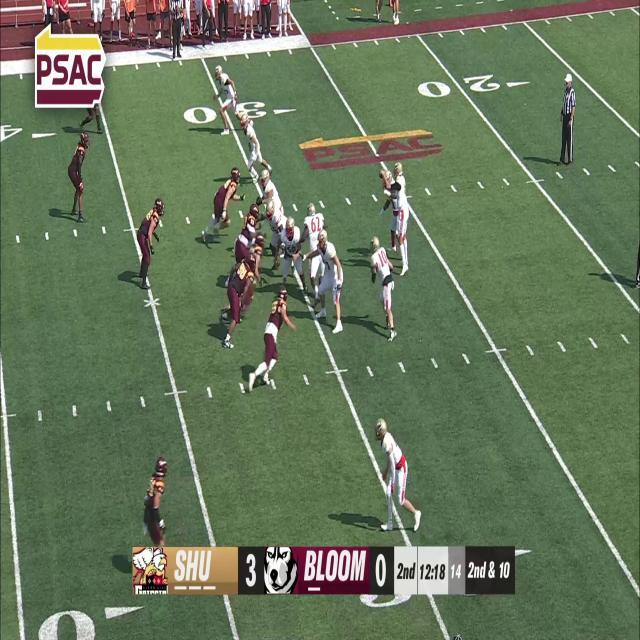football: (379, 169, 384, 179)
